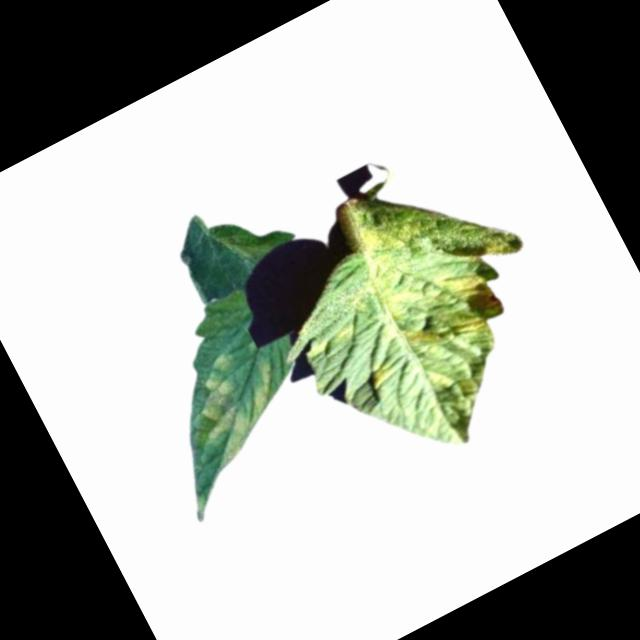Leaf_Mold: (337, 143, 586, 432), (172, 336, 304, 472), (364, 359, 401, 395)
